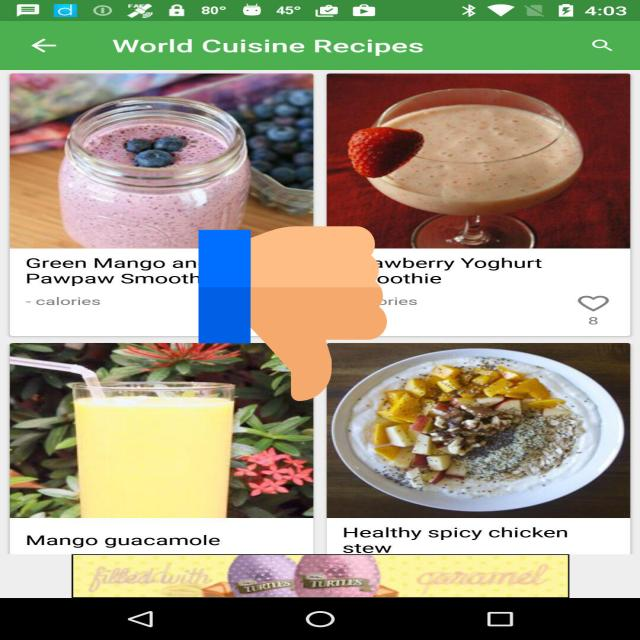obstruction: (198, 222, 387, 405)
